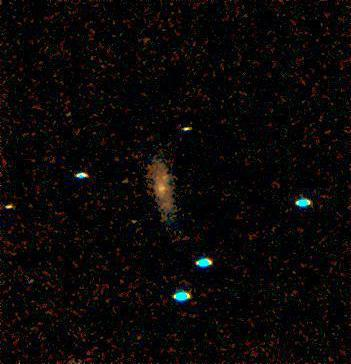star: (167, 116, 197, 146)
